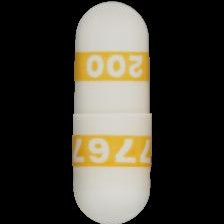43063-555: (0, 0, 224, 224)
